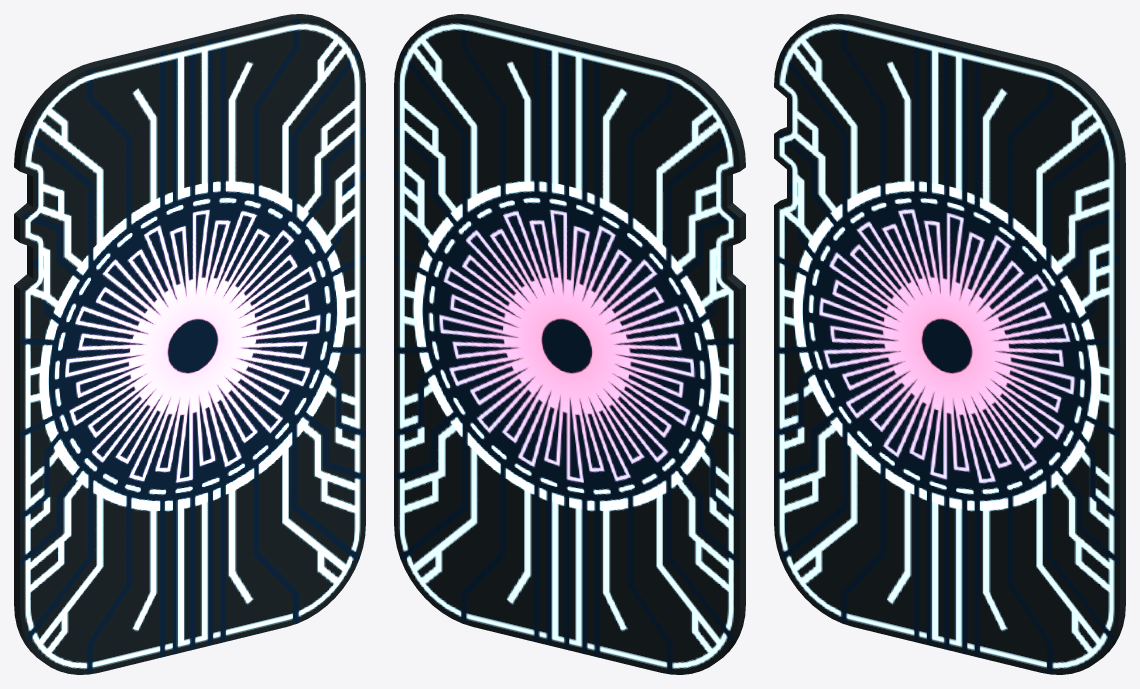
The model's file is Sonic 3 card.fbx.
3 renders of one model, left to right at view 1: azimuth 30°, elevation 25°; view 2: azimuth 150°, elevation 25°; view 3: azimuth 330°, elevation 25°, orthographic.
Parts seen in each view (by area): view 1: Sonic 3 card; view 2: Sonic 3 card; view 3: Sonic 3 card.
Boxes of the visible parts, box(x1,y1,x2,y2) form: Sonic 3 card: box(14, 14, 365, 674); Sonic 3 card: box(394, 14, 745, 674); Sonic 3 card: box(774, 14, 1125, 674).
Size of the model in its own units: 11.87 by 19.89 by 0.3493.
